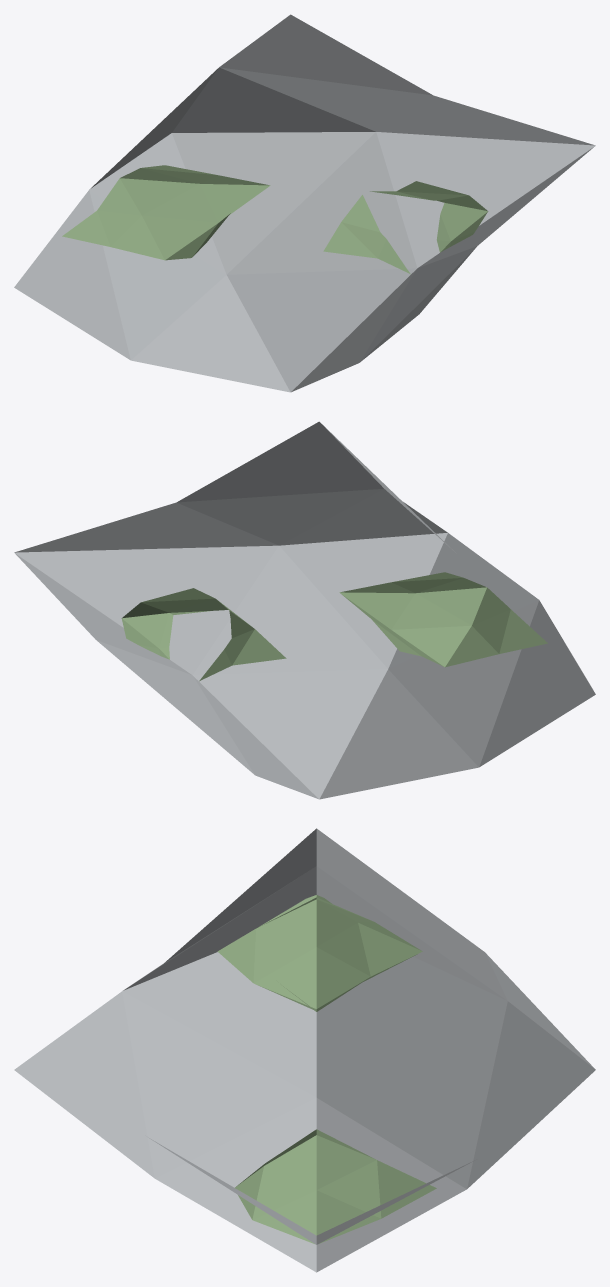
Rendered from moss_rock_v39.glb.
3 renders of one model, top to bottom at view 1: azimuth 30°, elevation 25°; view 2: azimuth 150°, elevation 25°; view 3: azimuth 270°, elevation 25°, orthographic. The views are drawn at different scales.
Parts seen in each view (by area): view 1: lod0; view 2: lod0; view 3: lod0.
Boxes of the visible parts, left/top/right/bottom form: lod0: left=14, top=14, right=595, bottom=392; lod0: left=14, top=421, right=595, bottom=799; lod0: left=14, top=828, right=595, bottom=1272.
Size of what is drawn, in the model's own units: 1.74 by 1.08 by 1.28.
